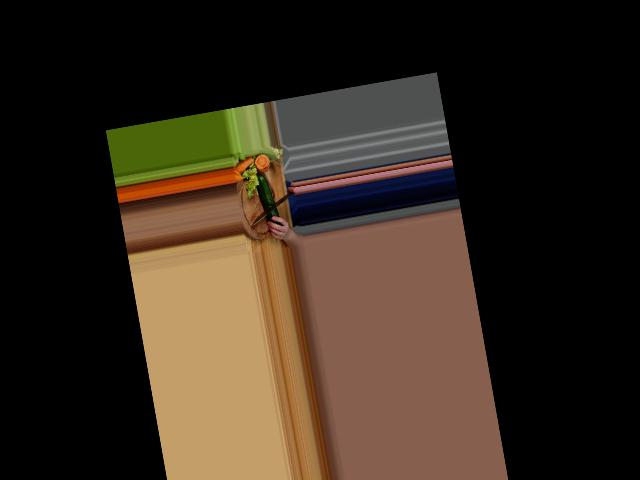cucumber: (255, 172, 281, 228)
